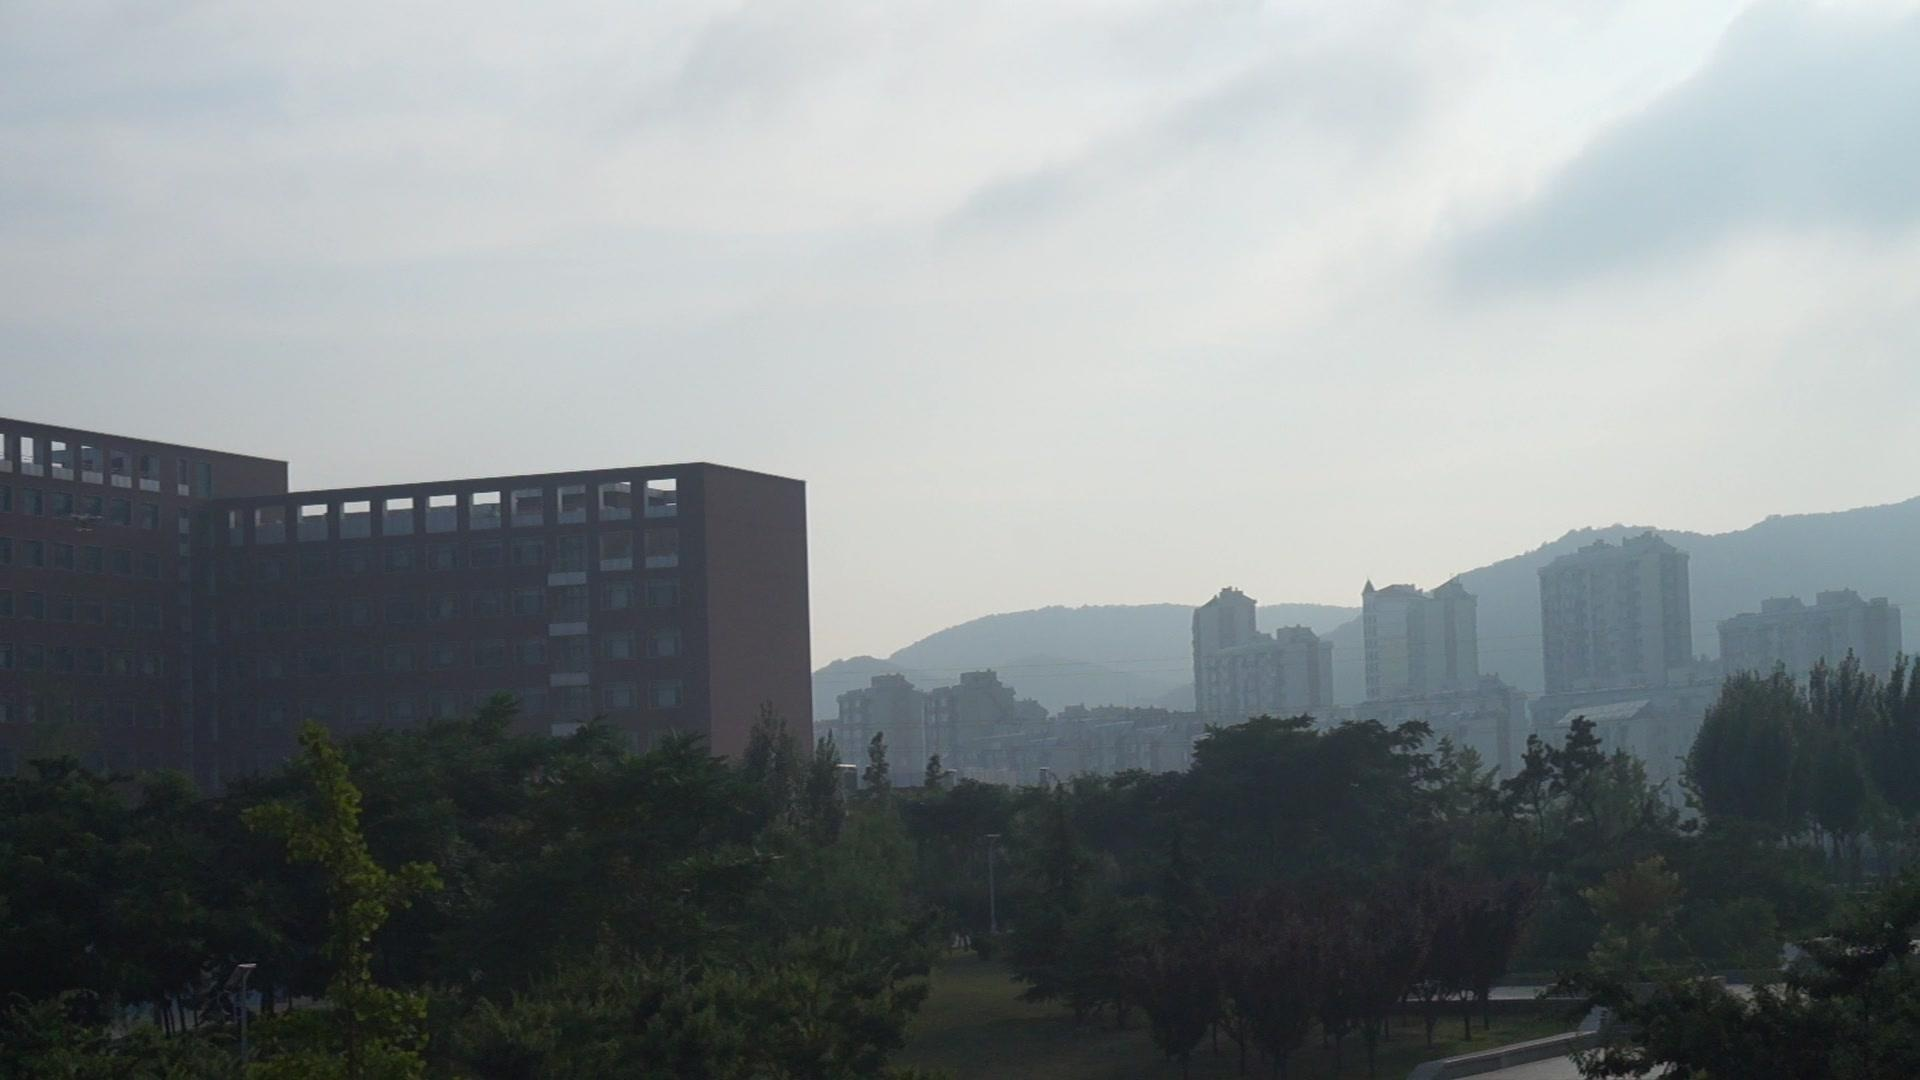UAV: (70, 513, 105, 533)
